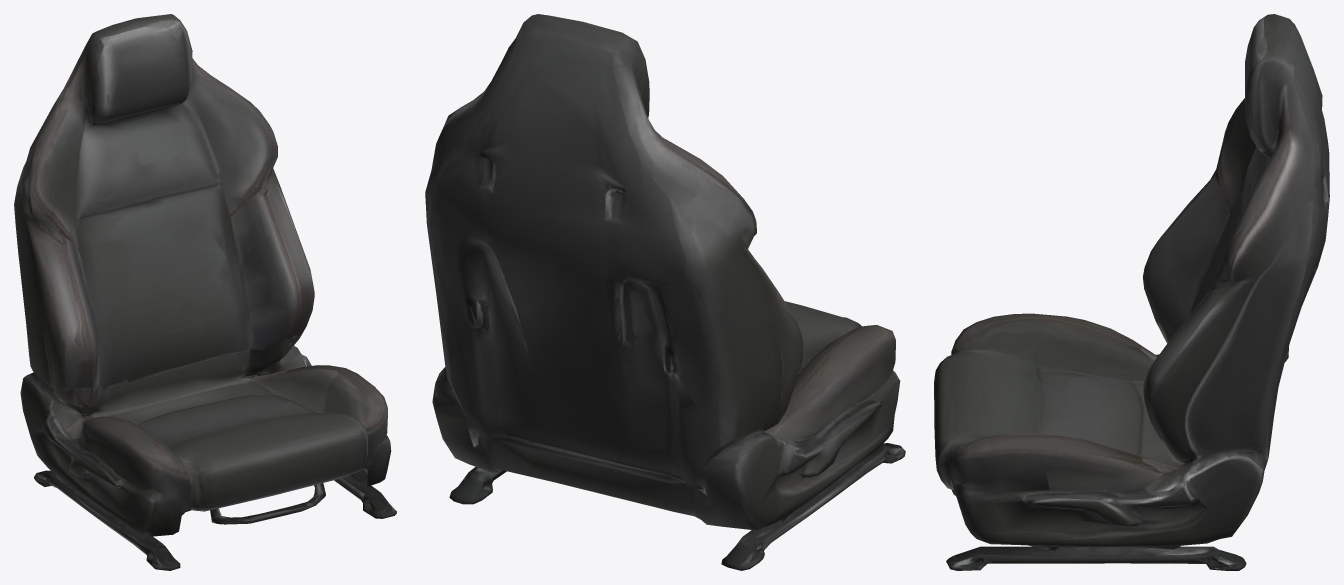
File: gt-seat.glb
The picture shows the model from 3 angles, left to right: view 1: azimuth 30°, elevation 25°; view 2: azimuth 150°, elevation 25°; view 3: azimuth 270°, elevation 25°; orthographic projection. The views are drawn at different scales.
Parts seen in each view (by area): view 1: GTSeat_Lux3D; view 2: GTSeat_Lux3D; view 3: GTSeat_Lux3D.
Boxes of the visible parts, x1,y1,x2,y2 form: GTSeat_Lux3D: [14, 14, 396, 570]; GTSeat_Lux3D: [425, 14, 905, 570]; GTSeat_Lux3D: [934, 14, 1329, 570].
Bounding box in the file's own units: 0.49 × 0.74 × 0.56.
1 material, 1 textured.
